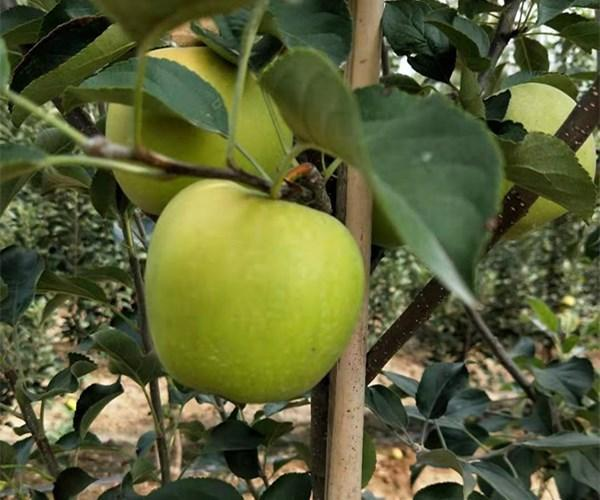apple: (139, 174, 365, 403), (109, 45, 293, 213)
